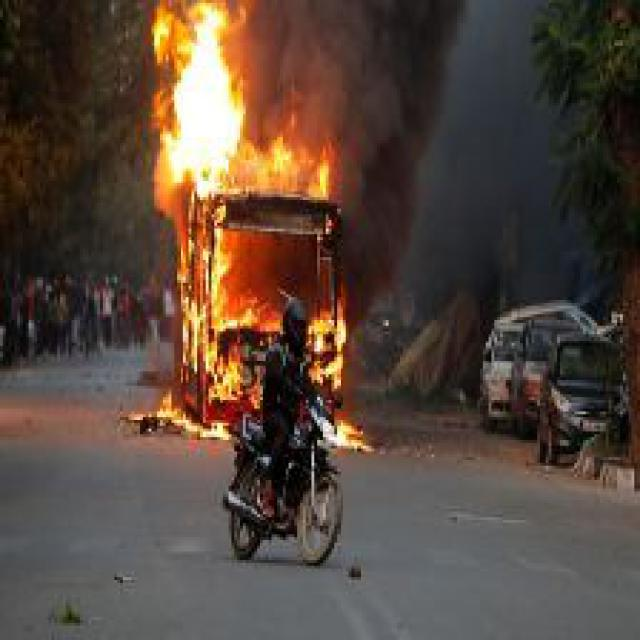fire: (146, 3, 380, 463)
